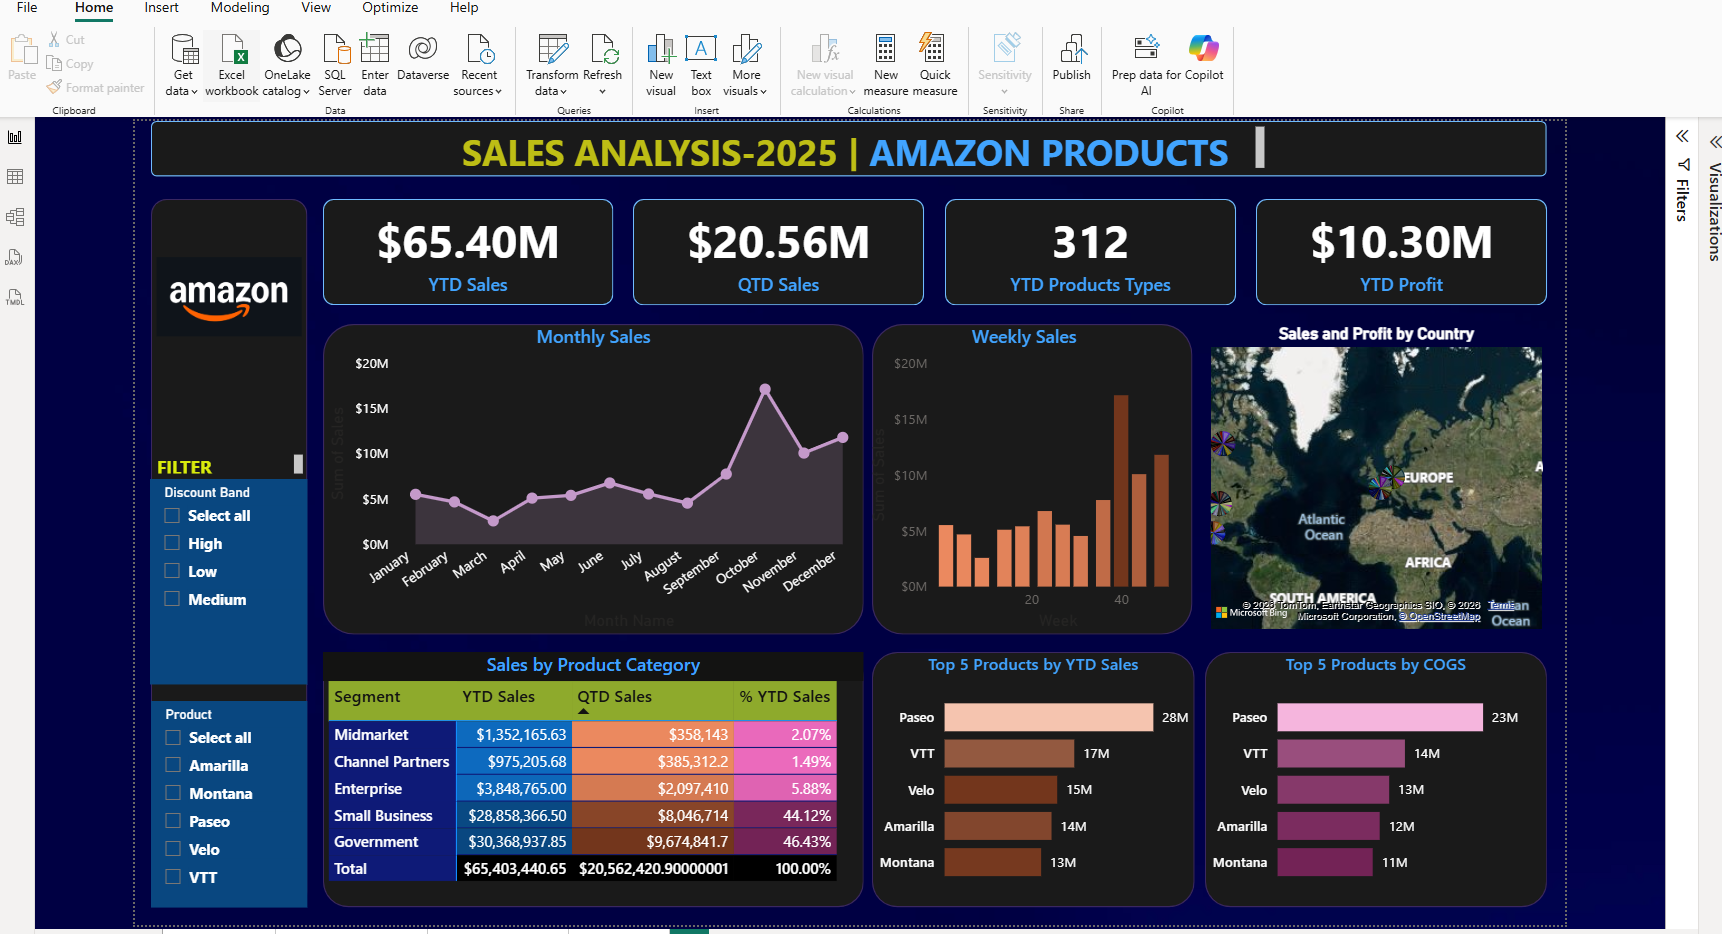

The page's visual inventory and layout, read from the dashboard file:
{"tool":"powerbi","page":{"name":"Dashboard","canvas":[1280,720],"ordinal":3},"visuals":[{"type":"shape","box":[14.6,0,1249.8,49.6],"z":0},{"type":"textbox","box":[287.9,0,728.5,49.6],"z":1000},{"type":"shape","box":[14.6,70,140.1,634.2],"z":2000},{"type":"shape","box":[168.3,70,260,95],"z":3000},{"type":"card","fields":{"Values":["financials.YTD Sales"]},"box":[168.3,70,259.7,95.3],"z":4000},{"type":"shape","box":[446.1,70,260.7,95.3],"z":5000},{"type":"shape","box":[724.9,70,260.7,95.3],"z":6000},{"type":"shape","box":[1003.8,70,260.7,95.3],"z":7000},{"type":"card","fields":{"Values":["financials.QTD Sales"]},"box":[446.1,70,260.7,95.3],"z":8000},{"type":"card","fields":{"Values":["financials.YTD Products Sold"]},"box":[724.9,70,260.7,95.3],"z":9000},{"type":"card","fields":{"Values":["financials.YTD Profit"]},"box":[1003.8,70,260.7,95.3],"z":10000},{"type":"shape","box":[168.3,181.9,484.4,278.2],"z":11000},{"type":"areaChart","title":"Monthly Sales","fields":{"Y":["Sum(financials. Sales)"],"Category":["financials.Month Name"]},"box":[168.3,181.9,484.4,278.2],"z":12000},{"type":"shape","box":[660.4,181.9,286.9,278.2],"z":13000},{"type":"columnChart","title":"Weekly Sales","fields":{"Category":["financials.Week"],"Y":["Sum(financials. Sales)"]},"box":[652.6,181.9,286.9,278.2],"z":14000},{"type":"shape","box":[168.3,475.6,484.4,228.6],"z":15000},{"type":"pivotTable","title":"Sales by Product Category","fields":{"Rows":["financials.Segment"],"Values":["financials.YTD Sales1","financials.QTD Sales","financials.YTD Sales"]},"box":[168.3,475.6,484.4,228.6],"z":16000},{"type":"shape","box":[660.4,475.6,288.9,228.6],"z":17000},{"type":"shape","box":[958.1,475.6,306.4,228.6],"z":18000},{"type":"clusteredBarChart","title":"Top 5 Products by YTD Sales","fields":{"Y":["Sum(financials. Sales)"],"Category":["financials.Product"]},"box":[660.4,475.6,288.9,228.6],"z":19000},{"type":"clusteredBarChart","title":"Top 5 Products by COGS","fields":{"Y":["Sum(financials.COGS)"],"Category":["financials.Product"]},"box":[958.1,475.6,306.4,228.6],"z":20000},{"type":"slicer","fields":{"Values":["financials.Product"]},"box":[14.6,519.4,140.1,184.8],"z":21000},{"type":"slicer","fields":{"Values":["financials.Discount Band"]},"box":[13.4,320.6,140.6,184.5],"z":22000},{"type":"image","box":[14.6,70,140.1,175.1],"z":23000},{"type":"textbox","box":[14.3,293.7,140.6,26.9],"z":24000},{"type":"map","title":" Sales and Profit by Country","fields":{"Category":["financials.Country"],"Size":["Sum(financials. Sales)"],"Series":["financials.Profit"]},"box":[958.1,181.9,307.4,278.2],"z":25000}]}

Visuals, with their boxes on the page's 1280x720 design canvas (x1, y1, x2, y2). These are canvas units, not pixel positions in the 1722x934 screenshot, which may show the page scaled, cropped or inside an application window:
shape: <bbox>15, 0, 1264, 50</bbox>
textbox: <bbox>288, 0, 1016, 50</bbox>
shape: <bbox>15, 70, 155, 704</bbox>
shape: <bbox>168, 70, 428, 165</bbox>
card - financials.YTD Sales: <bbox>168, 70, 428, 165</bbox>
shape: <bbox>446, 70, 707, 165</bbox>
shape: <bbox>725, 70, 986, 165</bbox>
shape: <bbox>1004, 70, 1264, 165</bbox>
card - financials.QTD Sales: <bbox>446, 70, 707, 165</bbox>
card - financials.YTD Products Sold: <bbox>725, 70, 986, 165</bbox>
card - financials.YTD Profit: <bbox>1004, 70, 1264, 165</bbox>
shape: <bbox>168, 182, 653, 460</bbox>
"Monthly Sales" areaChart: <bbox>168, 182, 653, 460</bbox>
shape: <bbox>660, 182, 947, 460</bbox>
"Weekly Sales" columnChart: <bbox>653, 182, 940, 460</bbox>
shape: <bbox>168, 476, 653, 704</bbox>
"Sales by Product Category" pivotTable: <bbox>168, 476, 653, 704</bbox>
shape: <bbox>660, 476, 949, 704</bbox>
shape: <bbox>958, 476, 1264, 704</bbox>
"Top 5 Products by YTD Sales" clusteredBarChart: <bbox>660, 476, 949, 704</bbox>
"Top 5 Products by COGS" clusteredBarChart: <bbox>958, 476, 1264, 704</bbox>
slicer - financials.Product: <bbox>15, 519, 155, 704</bbox>
slicer - financials.Discount Band: <bbox>13, 321, 154, 505</bbox>
image: <bbox>15, 70, 155, 245</bbox>
textbox: <bbox>14, 294, 155, 321</bbox>
" Sales and Profit by Country" map: <bbox>958, 182, 1266, 460</bbox>
